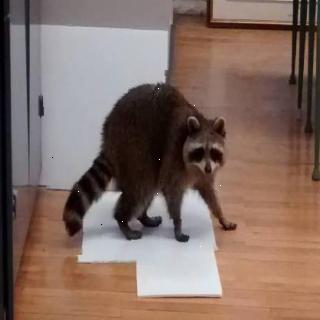raccoon: (43, 69, 244, 255)
